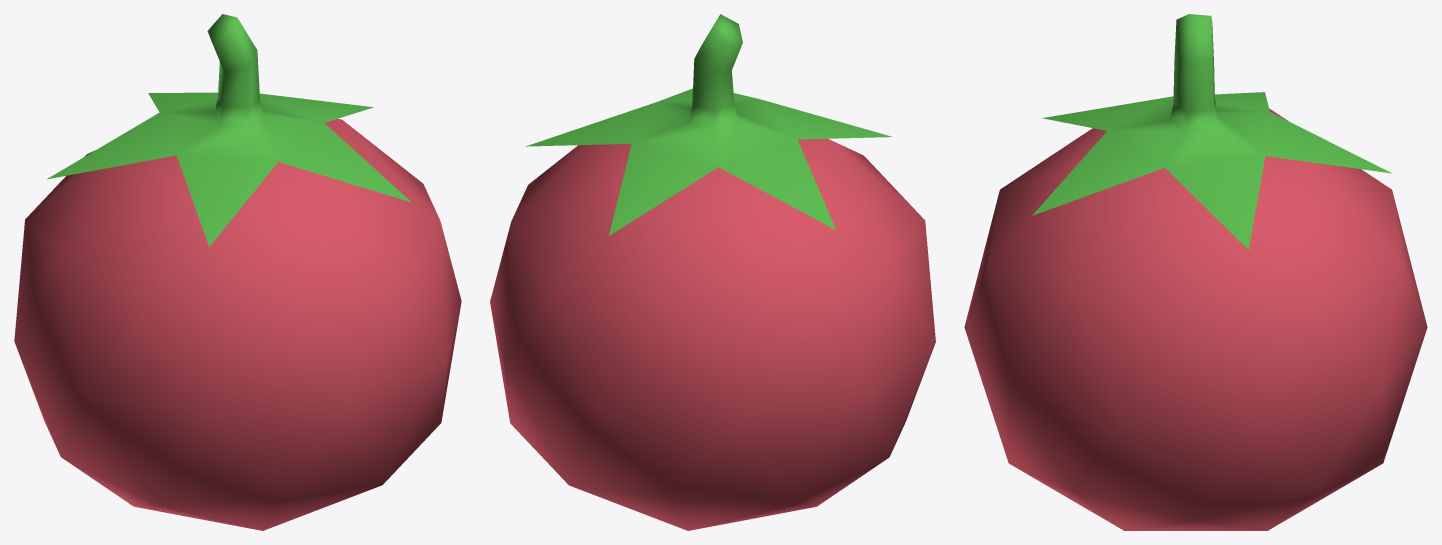
File: tomMod.glb
3 views of the same model, side by side, from view 1: azimuth 30°, elevation 25°; view 2: azimuth 150°, elevation 25°; view 3: azimuth 270°, elevation 25° (orthographic).
Parts seen in each view (by area): view 1: Icosphere.001; view 2: Icosphere.001; view 3: Icosphere.001.
Boxes of the visible parts, x1,y1,x2,y2 form: Icosphere.001: [14, 14, 461, 530]; Icosphere.001: [490, 14, 935, 530]; Icosphere.001: [964, 14, 1427, 530].
Bounding box in the file's own units: 1.9 × 2.34 × 2.
